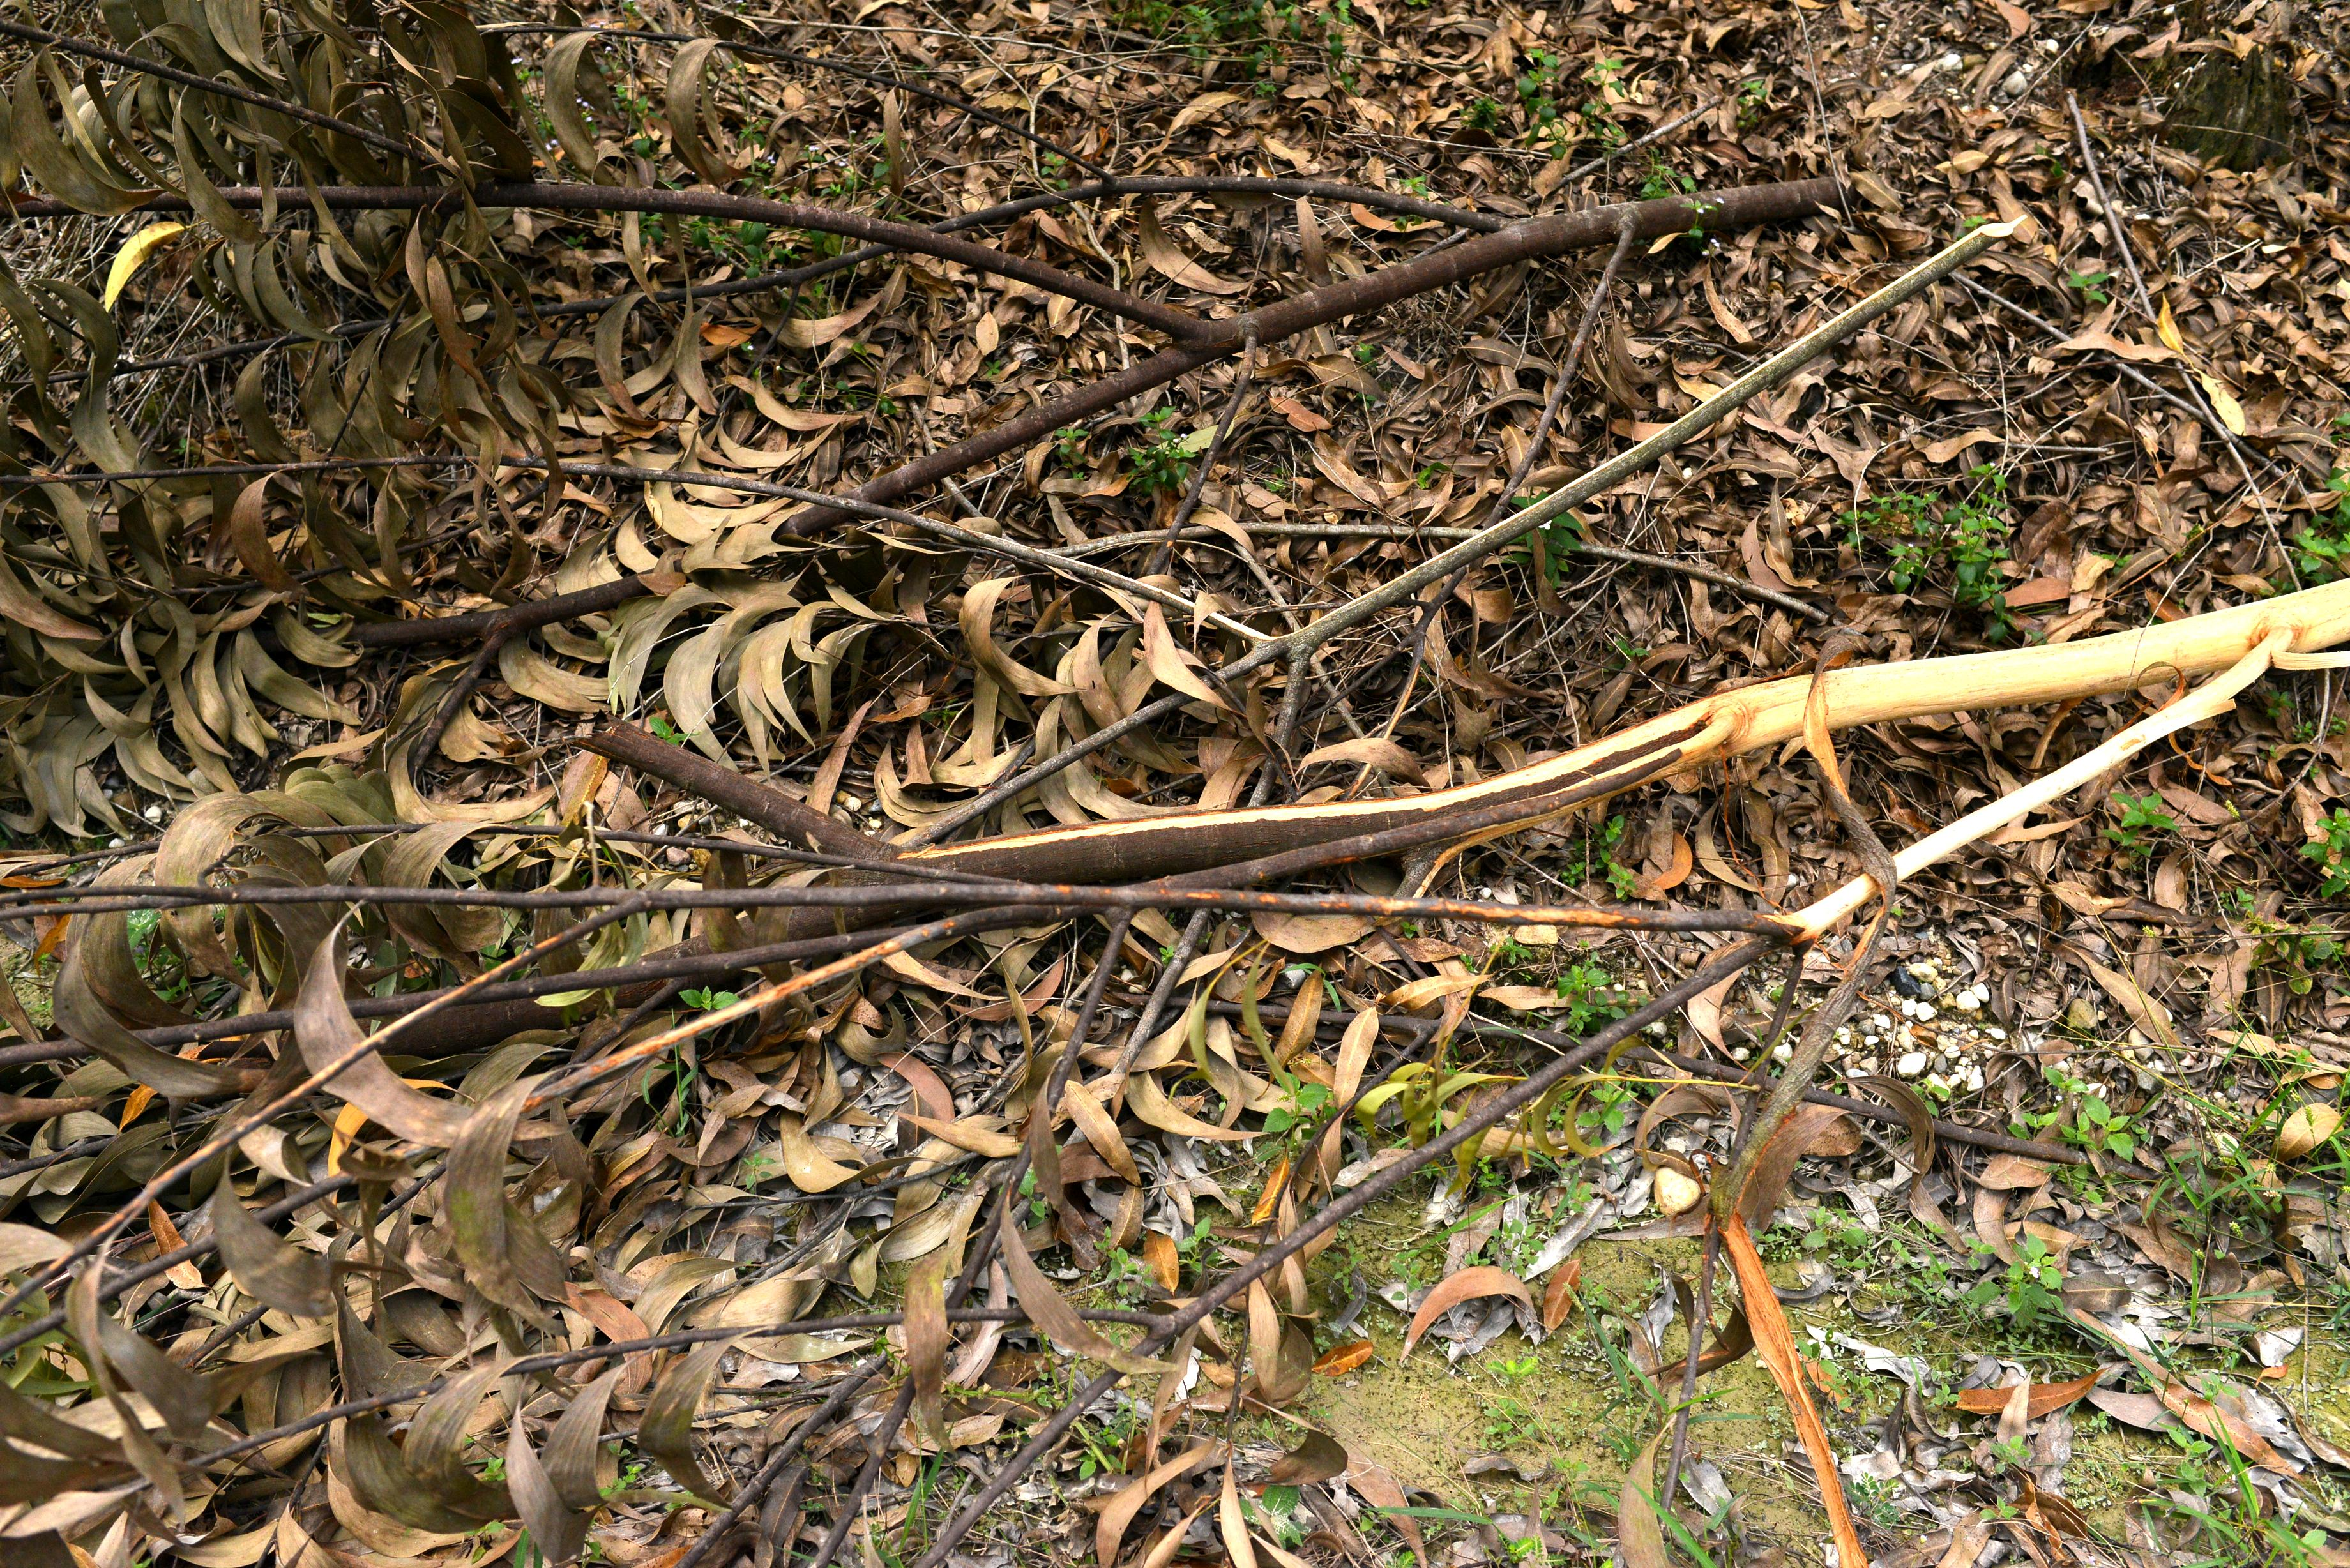Mammals Attack: (910, 572, 2348, 938)
